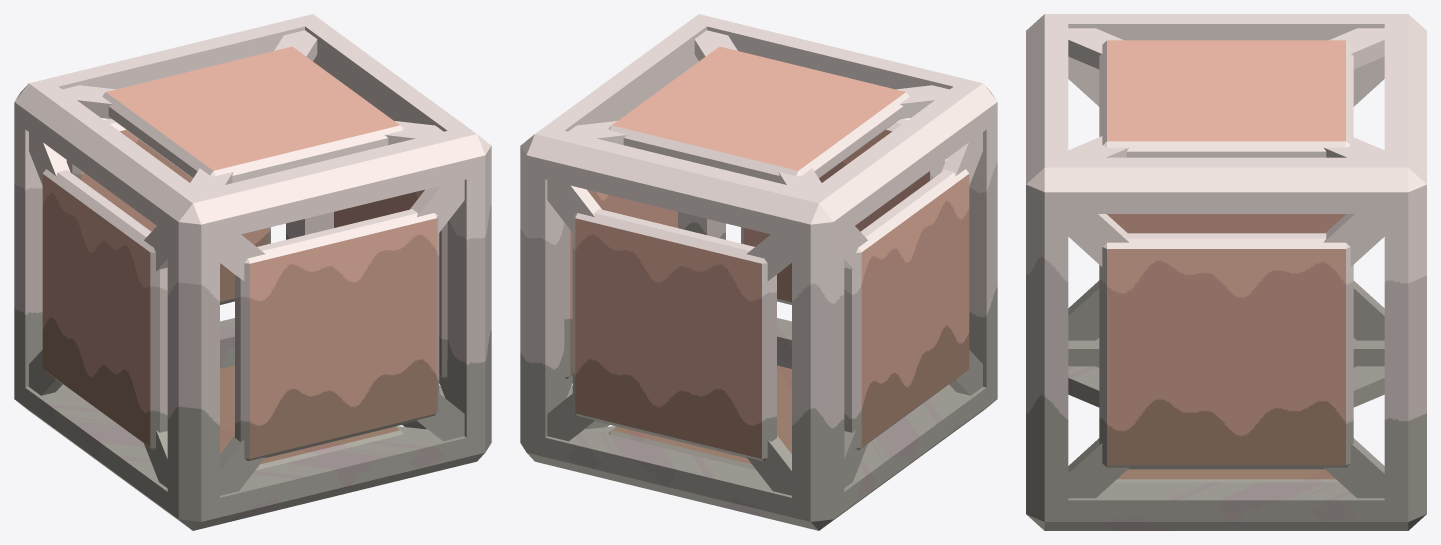
Rendered from R4B_TrussCube_LOD1.glb.
3 renders of one model, left to right at view 1: azimuth 30°, elevation 25°; view 2: azimuth 150°, elevation 25°; view 3: azimuth 270°, elevation 25°, orthographic. The views are drawn at different scales.
Parts seen in each view (by area): view 1: R4B_TrussCube_LOD1; view 2: R4B_TrussCube_LOD1; view 3: R4B_TrussCube_LOD1.
Part boxes in pixels (box(x1,y1,x2,y2)): R4B_TrussCube_LOD1: box(14, 14, 491, 530); R4B_TrussCube_LOD1: box(520, 14, 997, 530); R4B_TrussCube_LOD1: box(1026, 14, 1426, 530).
Bounding box in the file's own units: 0.52 × 0.52 × 0.52.
2 materials, 2 textured.
